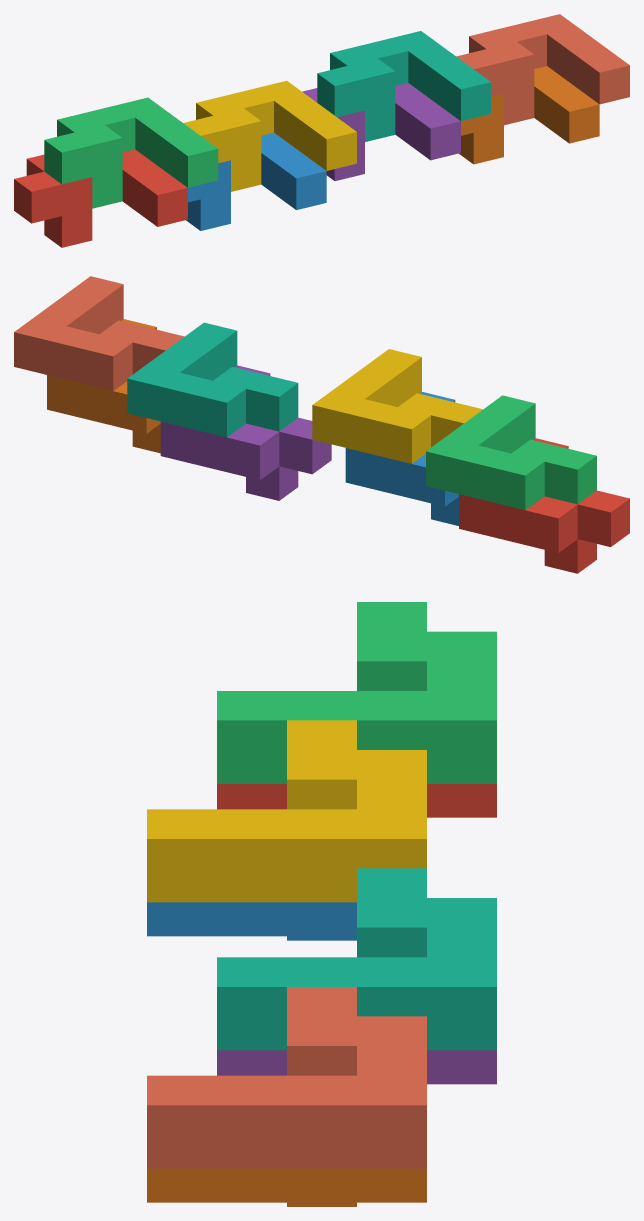
The model's file is tiling.obj.
3 views of the same model, one above another, from view 1: azimuth 30°, elevation 25°; view 2: azimuth 150°, elevation 25°; view 3: azimuth 270°, elevation 25° (orthographic). The views are drawn at different scales.
Visible parts, largest first — view 1: copy_1_domain_3, copy_1_domain_7, copy_1_domain_4, copy_1_domain_8, copy_1_domain_1, copy_1_domain_2, copy_1_domain_6, copy_1_domain_5; view 2: copy_1_domain_7, copy_1_domain_3, copy_1_domain_8, copy_1_domain_4, copy_1_domain_1, copy_1_domain_5, copy_1_domain_6, copy_1_domain_2; view 3: copy_1_domain_8, copy_1_domain_4, copy_1_domain_7, copy_1_domain_3, copy_1_domain_6, copy_1_domain_2, copy_1_domain_5, copy_1_domain_1.
Part boxes in pixels (bbox=[...]): copy_1_domain_3: bbox=[44, 97, 218, 208]; copy_1_domain_7: bbox=[317, 31, 490, 141]; copy_1_domain_4: bbox=[183, 80, 356, 191]; copy_1_domain_8: bbox=[456, 14, 629, 125]; copy_1_domain_1: bbox=[14, 149, 187, 247]; copy_1_domain_2: bbox=[186, 132, 326, 230]; copy_1_domain_6: bbox=[459, 66, 599, 164]; copy_1_domain_5: bbox=[302, 83, 460, 180]; copy_1_domain_7: bbox=[127, 322, 298, 437]; copy_1_domain_3: bbox=[426, 395, 596, 510]; copy_1_domain_8: bbox=[14, 276, 184, 390]; copy_1_domain_4: bbox=[312, 349, 482, 463]; copy_1_domain_1: bbox=[459, 438, 629, 573]; copy_1_domain_5: bbox=[160, 365, 331, 500]; copy_1_domain_6: bbox=[47, 319, 160, 453]; copy_1_domain_2: bbox=[345, 392, 458, 525]; copy_1_domain_8: bbox=[147, 987, 426, 1168]; copy_1_domain_4: bbox=[147, 720, 426, 902]; copy_1_domain_7: bbox=[217, 868, 496, 1050]; copy_1_domain_3: bbox=[217, 602, 496, 783]; copy_1_domain_6: bbox=[147, 1168, 426, 1206]; copy_1_domain_2: bbox=[147, 902, 356, 940]; copy_1_domain_5: bbox=[217, 1050, 496, 1084]; copy_1_domain_1: bbox=[217, 784, 496, 817].
Bounding box in the file's own units: 18 × 3 × 5.
